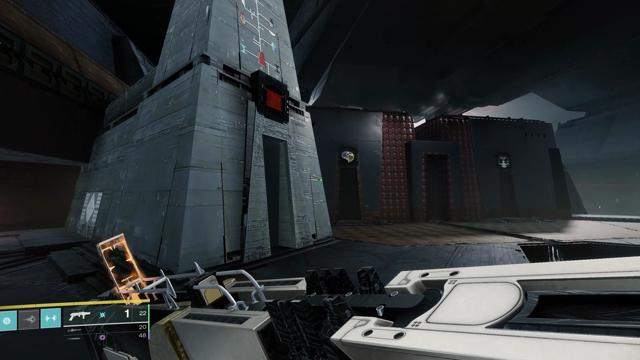brain: (340, 148, 355, 165)
drink: (497, 154, 511, 169)
stop: (262, 82, 285, 116)
